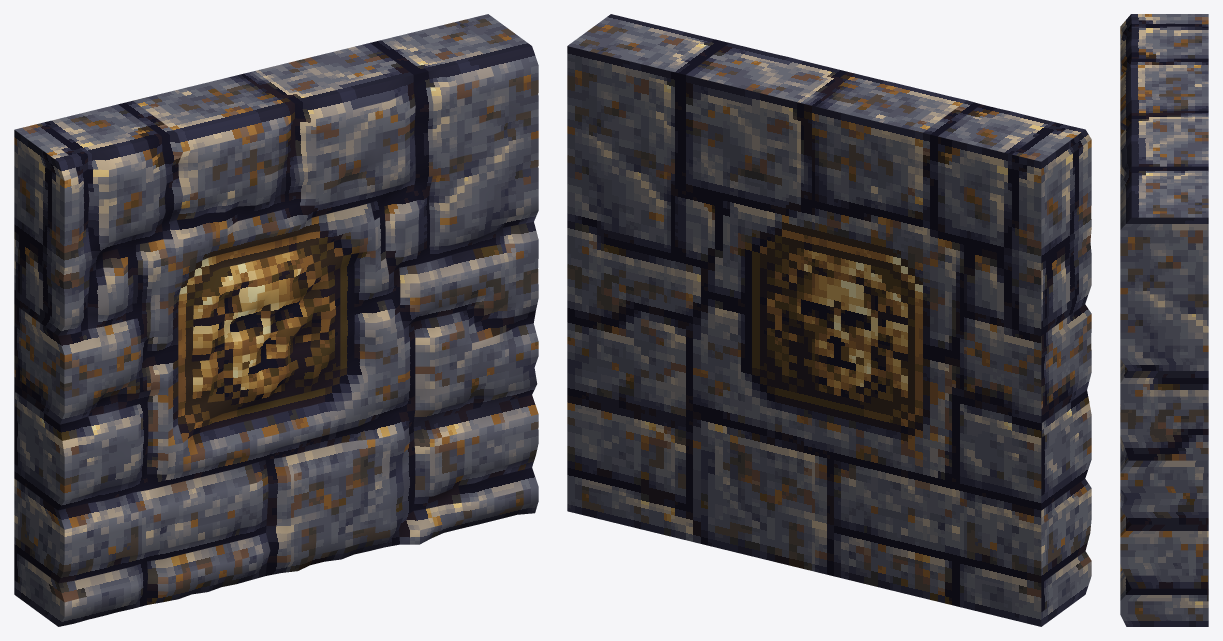
The model's file is wallb_set_04.glb.
3 renders of one model, left to right at view 1: azimuth 30°, elevation 25°; view 2: azimuth 150°, elevation 25°; view 3: azimuth 270°, elevation 25°, orthographic. The views are drawn at different scales.
Parts seen in each view (by area): view 1: Masonry_Relief, Solid_Back_And_Edges; view 2: Solid_Back_And_Edges; view 3: Solid_Back_And_Edges, Masonry_Relief.
Boxes of the visible parts, x1=… form: Masonry_Relief: x1=58, y1=46, x2=538, y2=626; Solid_Back_And_Edges: x1=14, y1=14, x2=531, y2=626; Solid_Back_And_Edges: x1=567, y1=14, x2=1091, y2=626; Solid_Back_And_Edges: x1=1120, y1=14, x2=1208, y2=626; Masonry_Relief: x1=1120, y1=14, x2=1131, y2=600.
Size of the model in its own units: 1 by 0.9375 by 0.184.
Materials: 1 (1 with a texture image).
